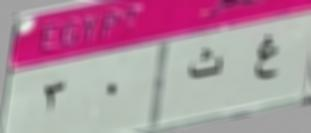0: (102, 78, 120, 105)
3: (38, 76, 70, 118)
ghayn: (248, 31, 285, 86)
thaa: (185, 44, 228, 90)
